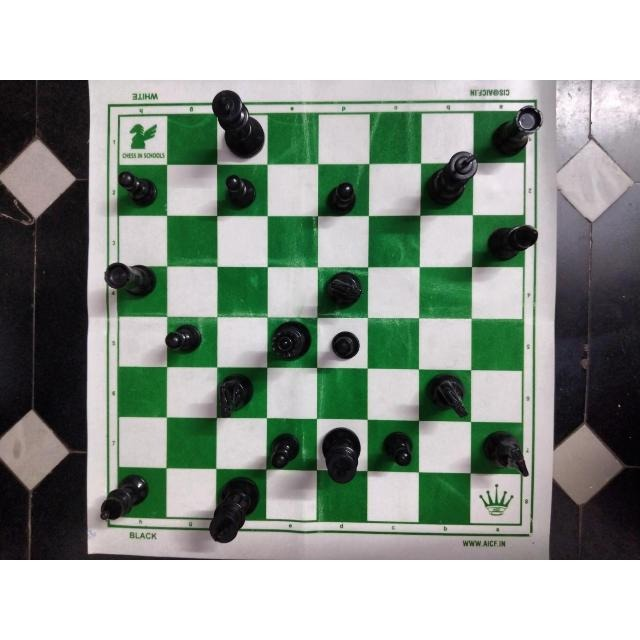black-bishop: (99, 473, 153, 521), (485, 223, 539, 266)
black-king: (209, 88, 267, 160), (208, 474, 262, 543), (423, 148, 479, 209), (486, 102, 545, 159), (319, 425, 363, 486), (101, 261, 158, 299)
black-knight: (480, 428, 532, 480), (424, 370, 472, 421), (214, 370, 256, 419), (319, 270, 365, 312)
black-pawn: (117, 165, 161, 211), (380, 429, 416, 471), (163, 320, 205, 355), (323, 180, 361, 218), (268, 429, 304, 469), (224, 172, 260, 211), (330, 331, 362, 362)
black-queen: (268, 320, 312, 360)
